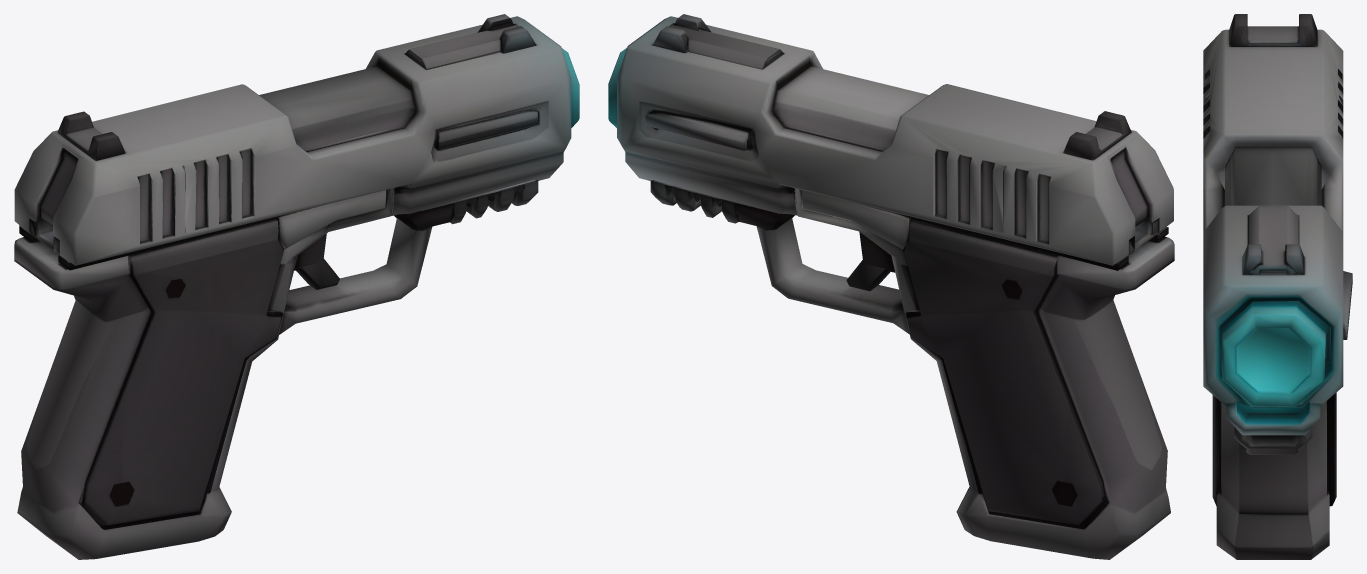
File: 019e0ccf-4175-7f36-b28a-1d3d8121d95c.glb
3 renders of one model, left to right at view 1: azimuth 30°, elevation 25°; view 2: azimuth 150°, elevation 25°; view 3: azimuth 270°, elevation 25°, orthographic. The views are drawn at different scales.
Parts seen in each view (by area): view 1: tripo_node_25de6155-1d50-4e7a-b816-f96e60256d3e; view 2: tripo_node_25de6155-1d50-4e7a-b816-f96e60256d3e; view 3: tripo_node_25de6155-1d50-4e7a-b816-f96e60256d3e.
Part boxes in pixels (<box>): tripo_node_25de6155-1d50-4e7a-b816-f96e60256d3e: <box>14,14,579,559</box>; tripo_node_25de6155-1d50-4e7a-b816-f96e60256d3e: <box>608,14,1174,559</box>; tripo_node_25de6155-1d50-4e7a-b816-f96e60256d3e: <box>1203,14,1352,559</box>.
Size of the model in its own units: 0.998 by 0.7676 by 0.2168.
1 material, 1 textured.
